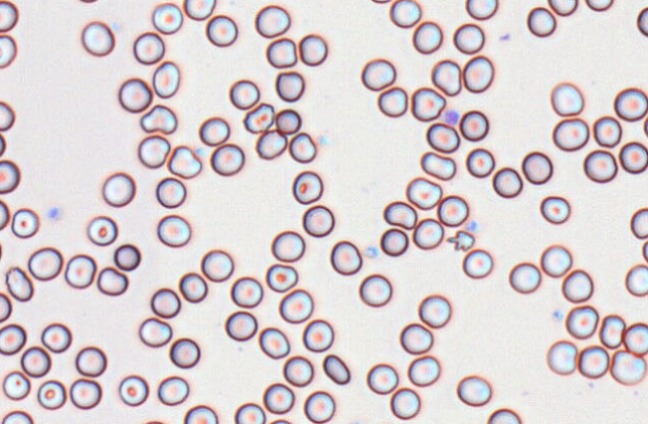PLT: (443, 107, 462, 126), (318, 133, 335, 150), (45, 206, 63, 222), (363, 245, 381, 260), (551, 308, 566, 323), (466, 219, 483, 232)
RBC: (610, 349, 646, 385), (405, 176, 442, 210), (552, 117, 589, 151), (462, 54, 494, 93), (278, 288, 313, 323), (410, 86, 445, 121), (81, 20, 115, 56), (254, 4, 290, 38), (167, 144, 202, 178), (27, 246, 62, 280), (118, 77, 152, 112), (550, 81, 584, 116), (360, 58, 396, 91), (102, 171, 135, 207), (358, 273, 392, 307), (583, 149, 617, 183), (613, 87, 647, 121), (565, 304, 598, 339), (209, 143, 244, 176), (329, 240, 362, 275), (139, 104, 177, 134), (418, 294, 451, 328), (137, 134, 170, 168), (157, 214, 191, 247), (456, 374, 491, 406), (64, 253, 96, 288), (561, 268, 593, 303), (546, 339, 577, 375), (431, 59, 461, 96), (399, 322, 433, 354), (302, 318, 334, 352), (271, 230, 305, 262), (291, 170, 323, 204), (425, 122, 460, 153), (152, 60, 180, 98), (303, 390, 335, 423), (407, 354, 440, 386), (540, 244, 572, 277), (508, 261, 541, 293), (230, 276, 263, 308), (200, 249, 233, 281), (302, 204, 334, 237), (521, 151, 553, 184), (205, 14, 237, 47), (420, 151, 456, 180), (69, 377, 101, 409), (258, 326, 290, 358), (262, 382, 294, 414), (412, 217, 444, 249), (151, 2, 183, 34), (452, 22, 484, 54), (224, 310, 257, 341), (578, 345, 609, 378), (133, 31, 164, 64), (138, 317, 172, 347), (412, 20, 442, 54), (382, 200, 417, 229), (20, 345, 51, 377), (389, 387, 420, 419), (75, 345, 106, 377), (366, 363, 398, 394), (155, 176, 186, 208), (437, 194, 468, 226), (265, 37, 297, 68), (5, 266, 33, 301), (243, 102, 274, 133), (282, 355, 313, 386), (40, 322, 71, 353), (169, 337, 200, 368), (462, 248, 493, 279), (86, 215, 117, 246), (377, 86, 408, 117), (255, 129, 287, 159), (157, 375, 189, 405), (118, 374, 148, 406), (592, 115, 622, 147), (492, 166, 522, 198), (459, 109, 489, 141), (265, 263, 298, 292), (298, 33, 327, 66), (150, 287, 180, 318), (198, 116, 229, 146), (229, 79, 260, 109), (526, 6, 556, 37), (465, 147, 495, 178), (96, 266, 128, 295), (275, 70, 304, 102), (178, 271, 207, 302), (539, 195, 570, 224), (288, 131, 316, 163), (619, 141, 647, 173), (389, 0, 421, 28), (599, 314, 625, 348), (37, 379, 66, 409), (322, 353, 350, 384), (11, 207, 39, 238), (379, 227, 408, 256), (2, 370, 30, 400), (0, 323, 26, 355), (623, 322, 647, 355), (113, 243, 140, 271), (625, 263, 647, 296), (274, 108, 301, 134), (0, 159, 20, 194), (234, 402, 266, 423), (183, 404, 218, 423), (183, 0, 216, 20), (465, 0, 497, 20), (0, 0, 18, 32), (630, 207, 647, 239), (0, 34, 16, 68), (487, 408, 521, 423), (547, 0, 578, 16), (0, 100, 15, 131), (1, 410, 33, 423), (0, 292, 12, 322), (636, 6, 647, 36), (584, 0, 613, 11), (0, 199, 9, 230), (641, 239, 648, 263), (0, 132, 6, 156), (142, 419, 166, 424), (268, 418, 291, 423), (643, 114, 648, 137), (370, 0, 391, 4), (76, 0, 100, 3), (0, 240, 3, 261)
Schistocyte: (446, 229, 477, 254)
